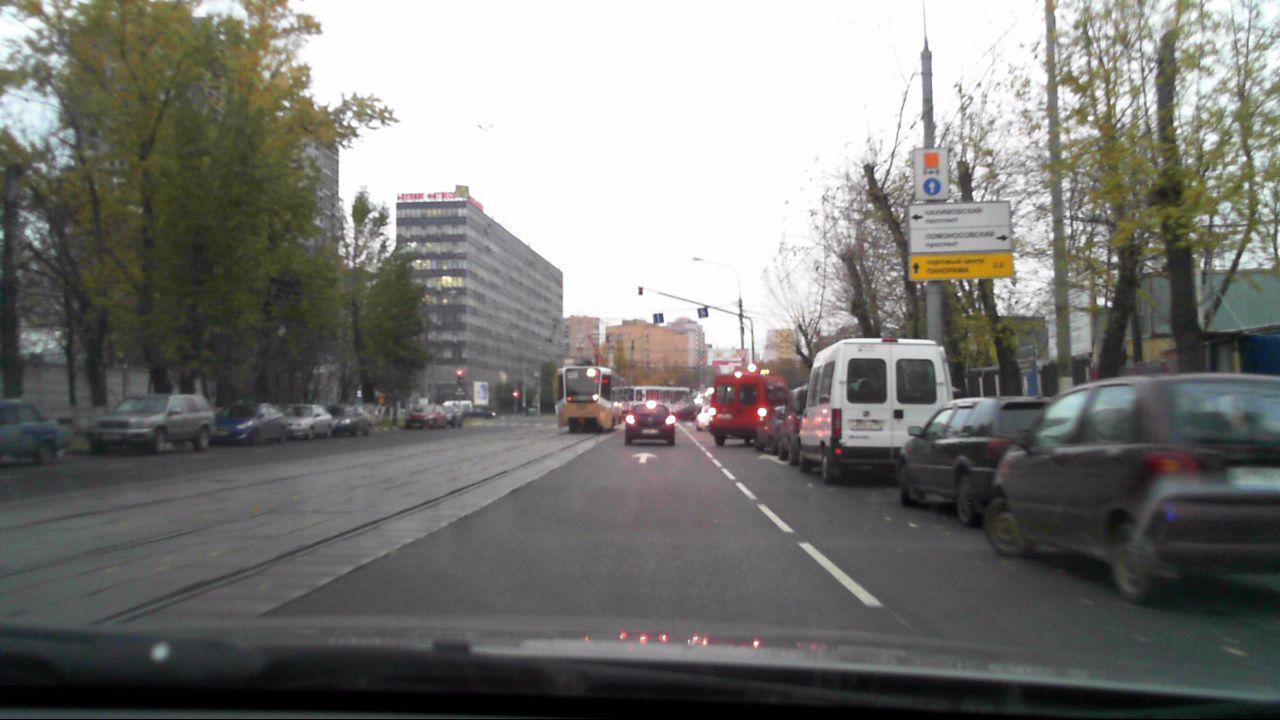4_8_1: (913, 146, 949, 199)
5_15_2: (652, 311, 664, 325), (697, 306, 709, 318)
